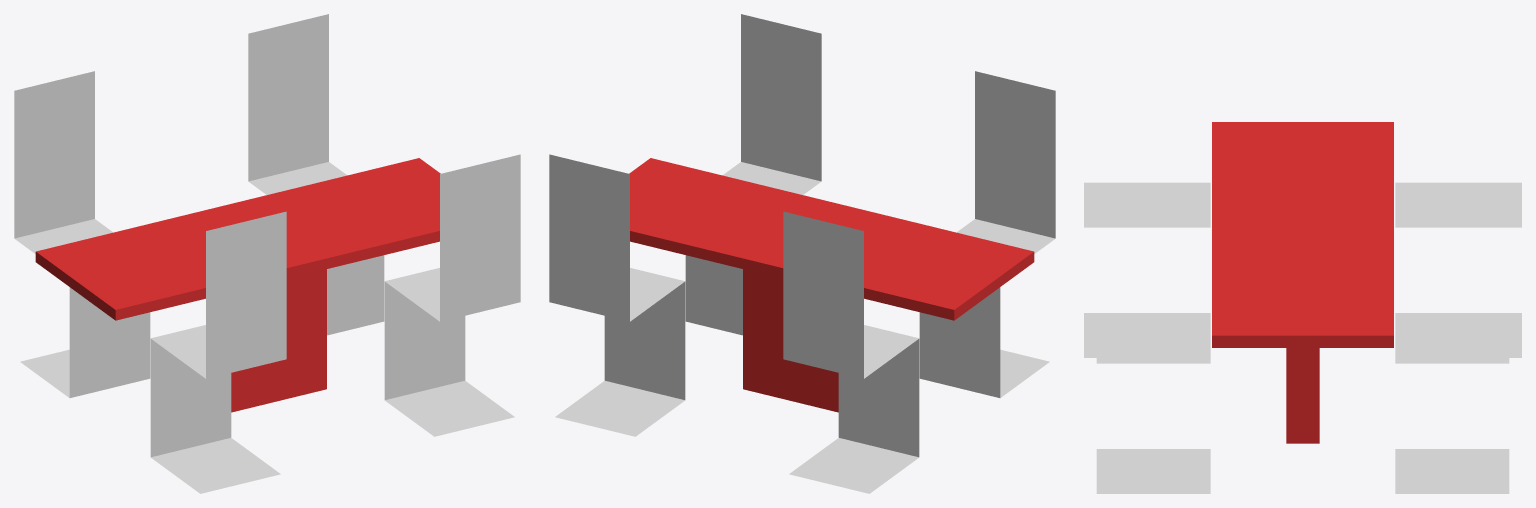
Rendered from Table2.gltf.
3 renders of one model, left to right at view 1: azimuth 30°, elevation 25°; view 2: azimuth 150°, elevation 25°; view 3: azimuth 270°, elevation 25°, orthographic. The views are drawn at different scales.
Visible parts, largest first — view 1: Table2; view 2: Table2; view 3: Table2.
Boxes of the visible parts, x1,y1,x2,y2 form: Table2: [14, 14, 520, 493]; Table2: [549, 14, 1055, 493]; Table2: [1084, 122, 1521, 493].
Size of the model in its own units: 2.64 by 1.8 by 2.28.
